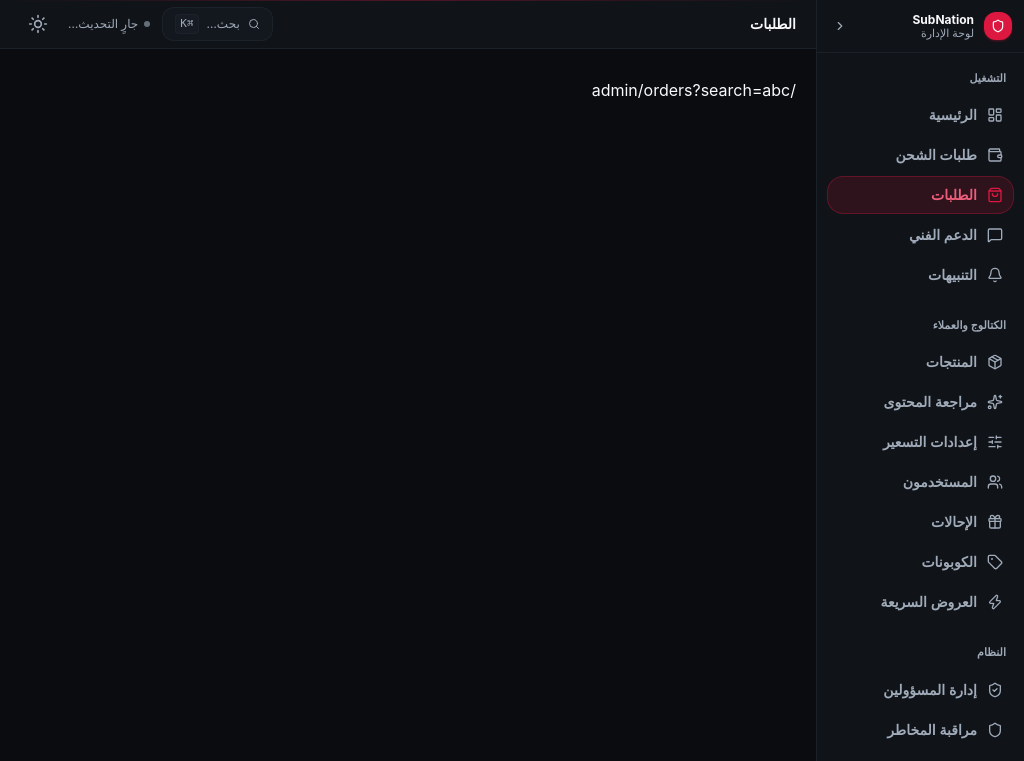
Test: AdminLayout GlobalSearch — palette a11y contract (R125 A6 B-9) › result sections are role=group (legal listbox children) with labels
Click the button "بحث… ⌘K": {"x": 218, "y": 24} x1=162 y1=7 x2=273 y2=41
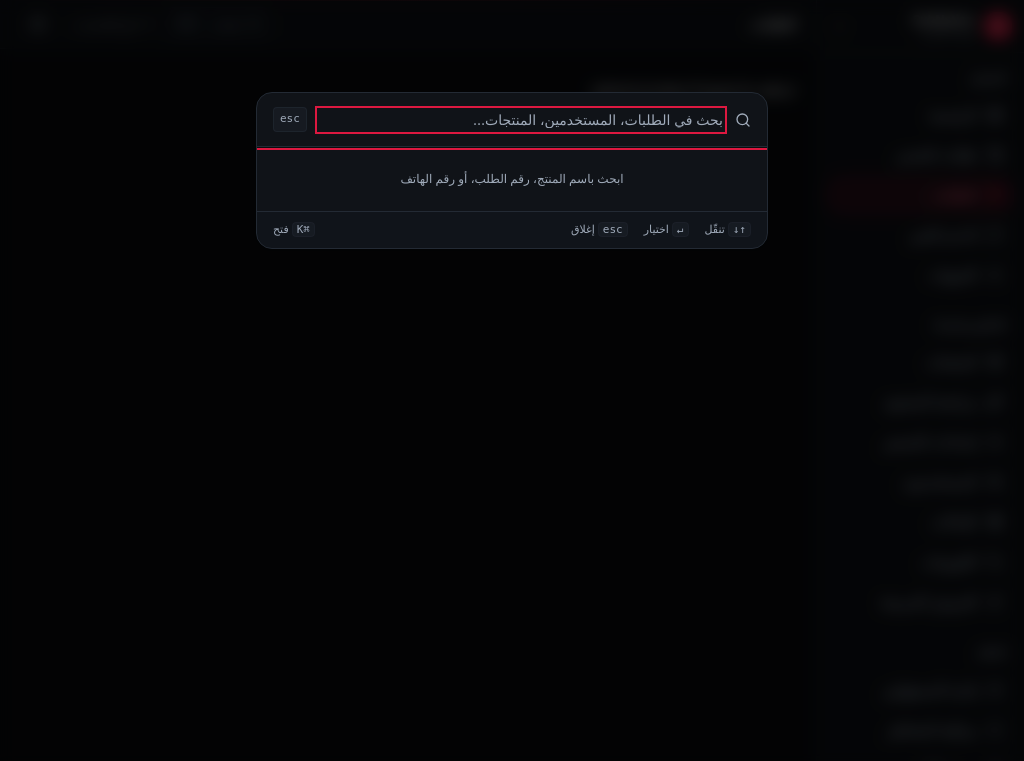
In the dropdown with placeholder "بحث في الطلبات، المستخدمين، المنتجات…": {"x": 521, "y": 120} x1=319 y1=110 x2=723 y2=130, type "abc"
Wait 220 ms
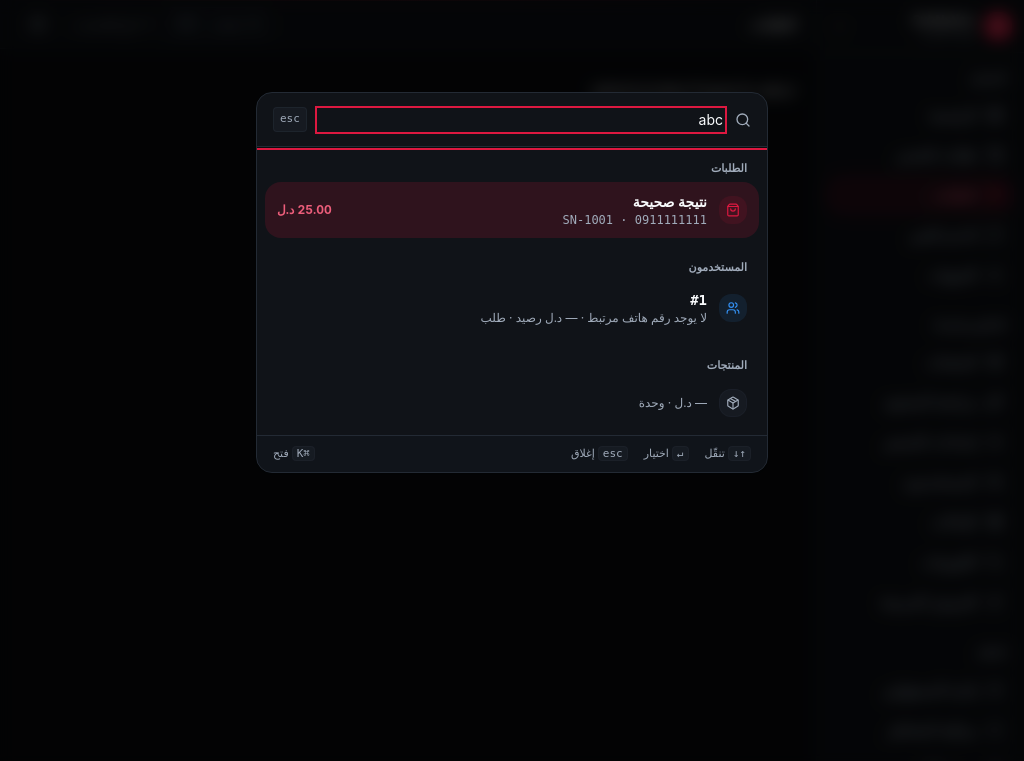
Result: the text "الطلبات" is shown at x1=711 y1=161 x2=747 y2=175
Result: the text "المستخدمون" is shown at x1=689 y1=260 x2=747 y2=274
Result: the text "المنتجات" is shown at x1=707 y1=358 x2=747 y2=372
